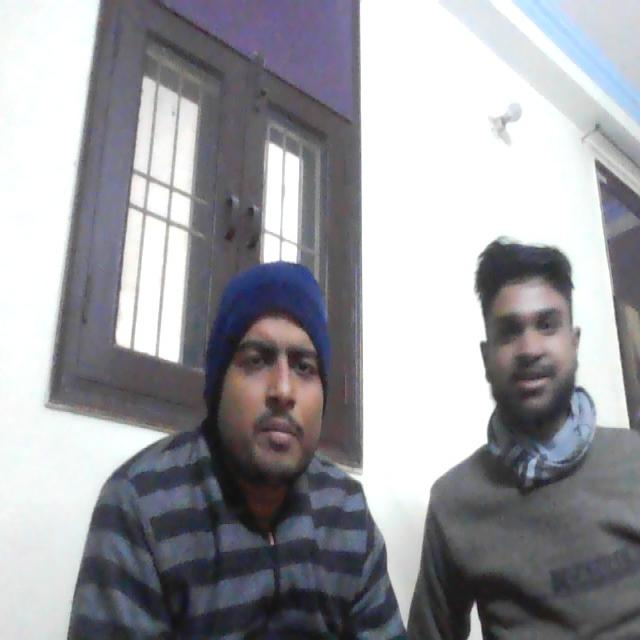real: (207, 256, 335, 497), (471, 222, 583, 434)
